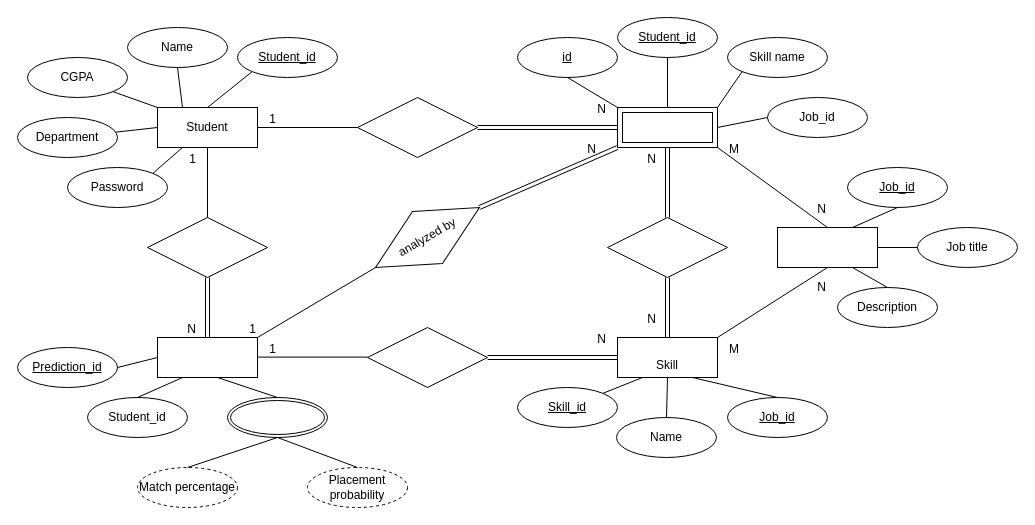
This 1035x525 diagram has some shape labels left out. The shapes that lost their labels are listed below. From the top down, each one's centre as x and y in pixels, then its label:
(x=417, y=127): enters
(x=667, y=127): Student Skill
(x=207, y=247): checks
(x=667, y=247): analyzed with
(x=827, y=247): Job
(x=207, y=357): Placement prediction
(x=427, y=357): based on
(x=277, y=417): Result
